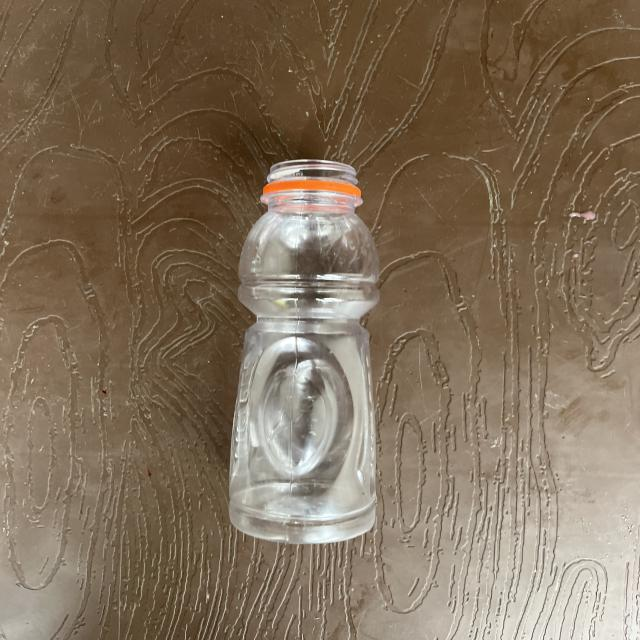PET_With_Cap: (234, 148, 389, 555)
